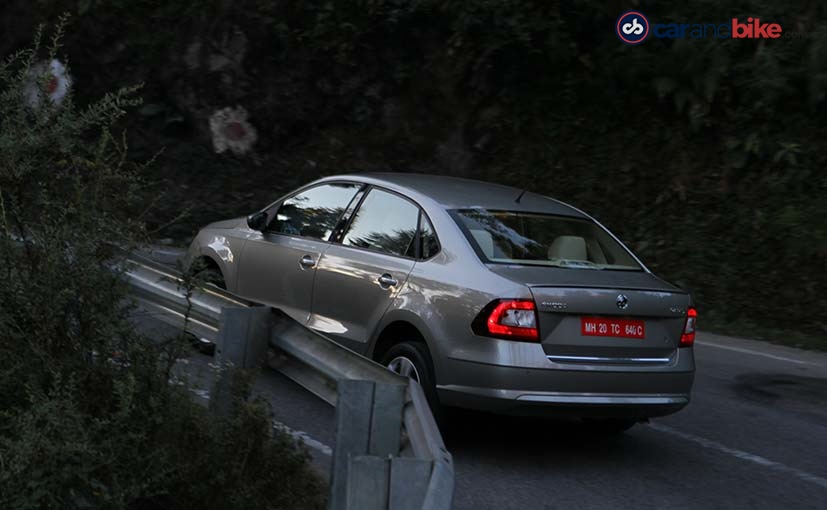car: (180, 173, 695, 439)
